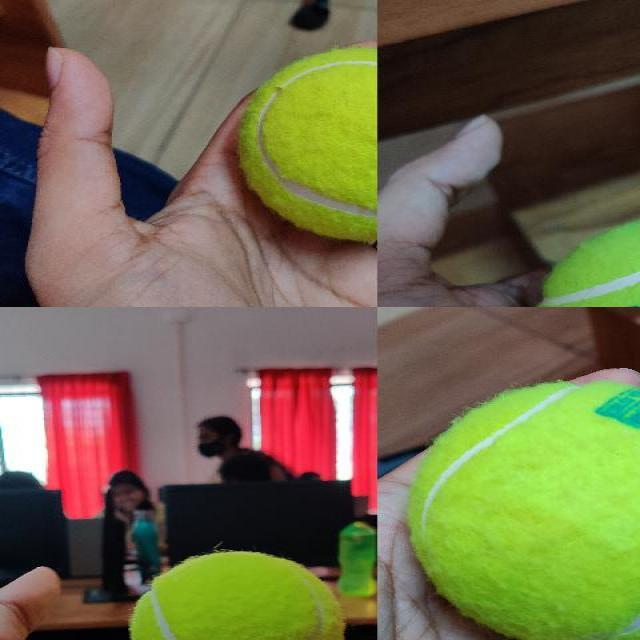tennis-ball: (406, 382, 638, 639), (238, 47, 376, 240), (129, 550, 344, 639)
